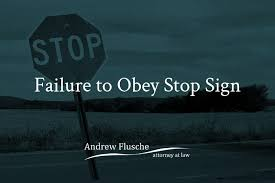stop sign: (28, 14, 106, 84)
